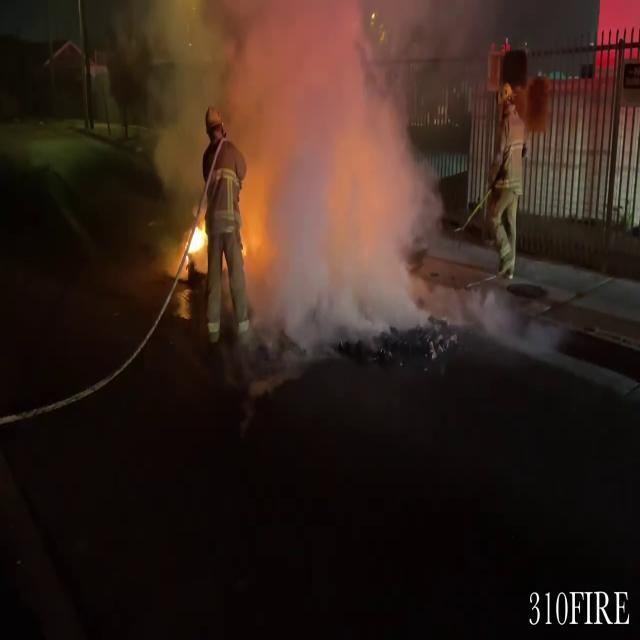Fire: (181, 211, 211, 273)
Smoke: (134, 0, 463, 354)
